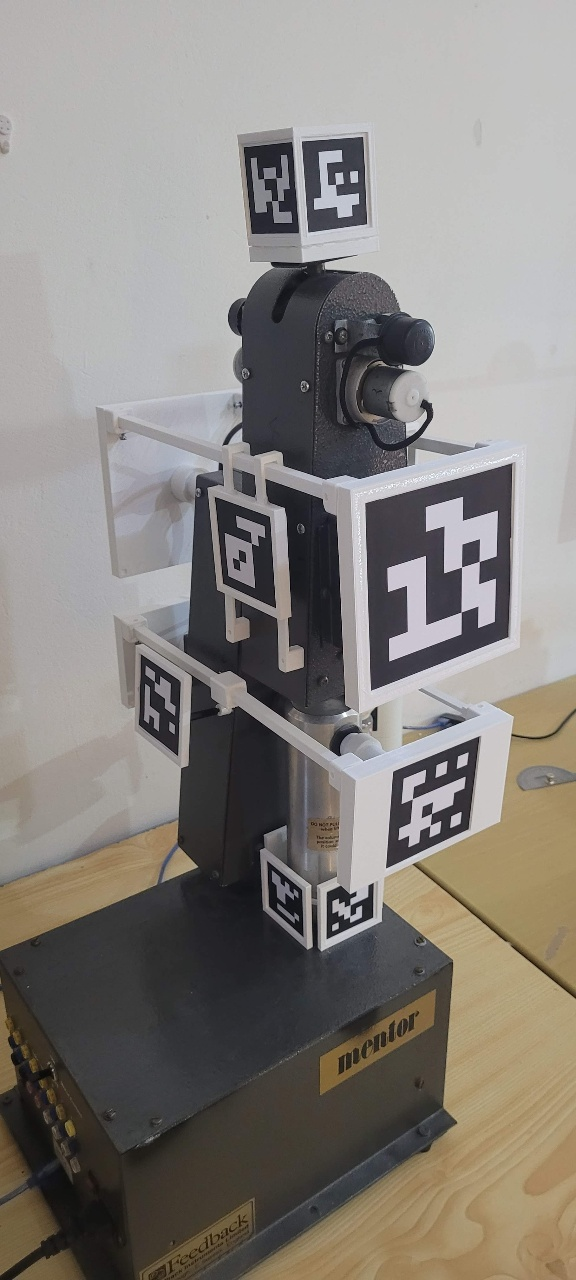Robot: (95, 123, 522, 955)
